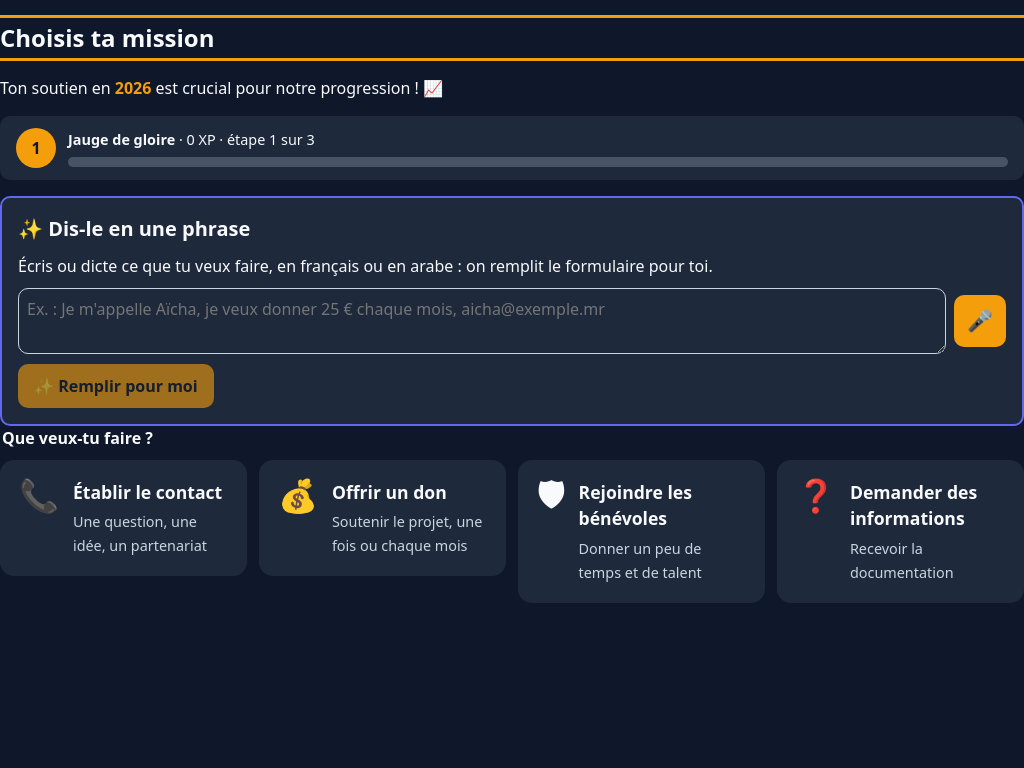
Formulaire augmenté › utilise Gemini Nano quand il est présent
Replace the text in the text box labelled "Écris ou dicte" with "Sidi aimerait aider l'équipe". click: coordinates (482, 321)
box: x1=18 y1=288 x2=946 y2=354
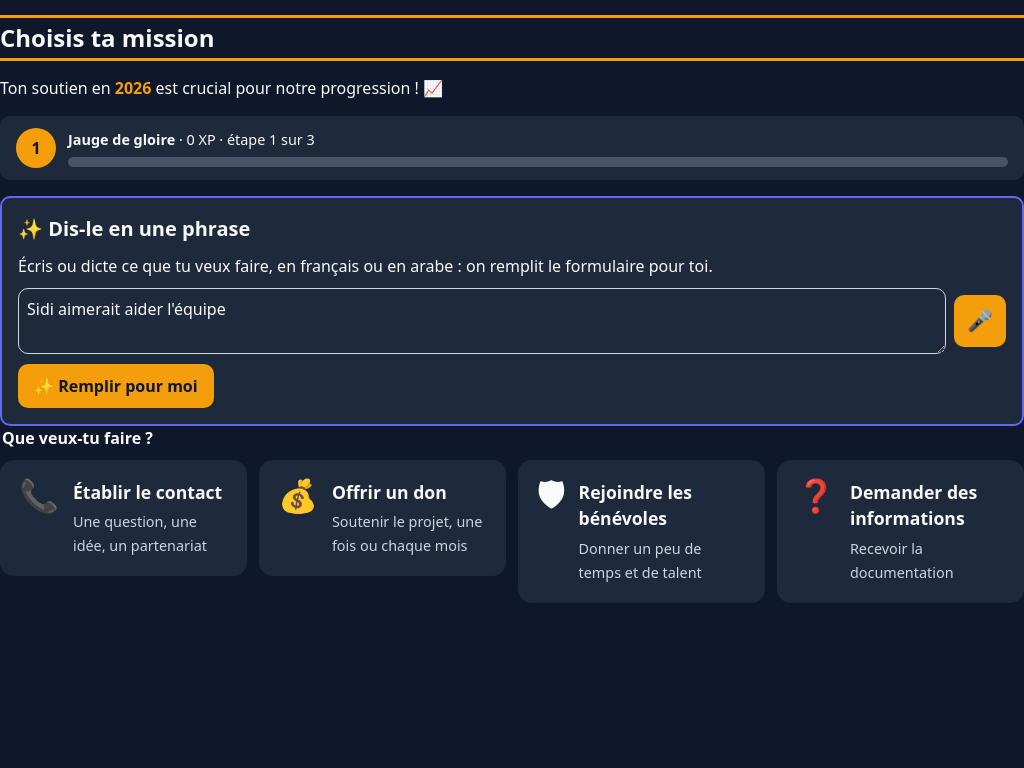
Click the button "✨ Remplir pour moi". click: coordinates (116, 386)
box: x1=18 y1=364 x2=214 y2=408
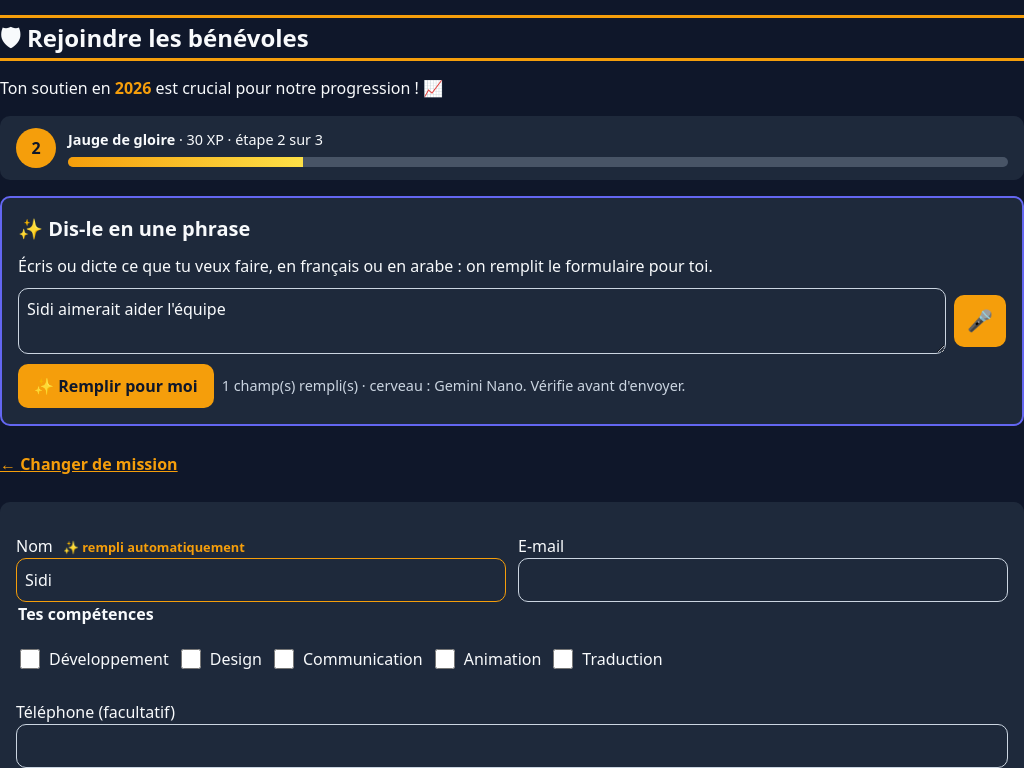
expect the heading "🛡 Rejoindre les bénévoles" is shown: met, box x1=0 y1=21 x2=309 y2=54
expect the text "Gemini Nano" is shown: met, box x1=222 y1=376 x2=685 y2=395
